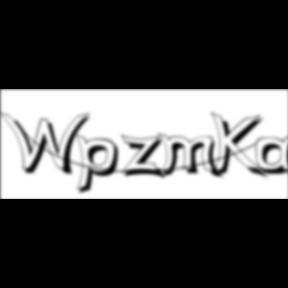K: (210, 110, 270, 182)
W: (0, 110, 96, 178)
m: (158, 132, 226, 181)
p: (76, 132, 126, 198)
z: (122, 134, 170, 182)
